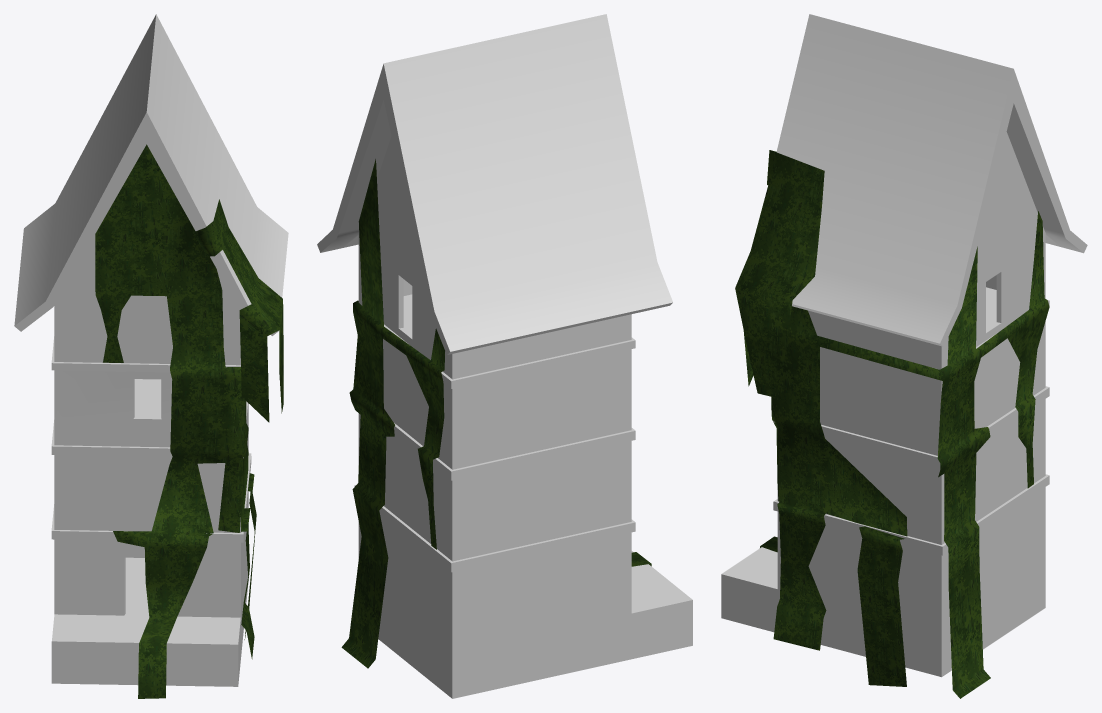
The model's file is chunk107.glb.
3 renders of one model, left to right at view 1: azimuth 30°, elevation 25°; view 2: azimuth 150°, elevation 25°; view 3: azimuth 270°, elevation 25°, orthographic. The views are drawn at different scales.
Parts seen in each view (by area): view 1: house-col, creepers; view 2: house-col, creepers; view 3: house-col, creepers.
Boxes of the visible parts, x1,y1,x2,y2 form: house-col: (14, 14, 288, 686); creepers: (95, 144, 283, 698); house-col: (317, 14, 692, 698); creepers: (341, 159, 651, 668); house-col: (721, 14, 1087, 677); creepers: (735, 150, 1049, 698).
Bounding box in the file's own units: 17.66 × 32.61 × 17.84.
Materials: 1 (1 with a texture image).
